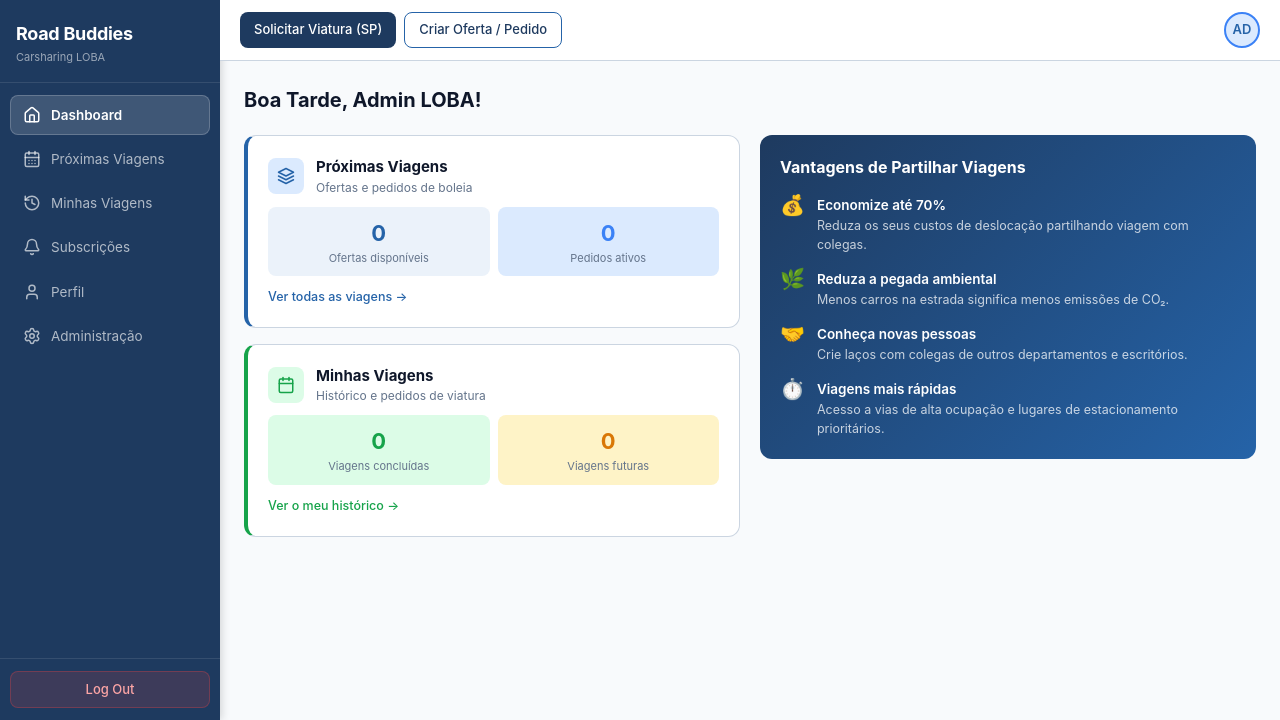
Administração › deve conseguir pesquisar utilizadores por nome
Check: the text "Road Buddies" is shown, box [16,20,133,47]
Click the button "Administração" at x=83, y=336, box [23,327,143,345]
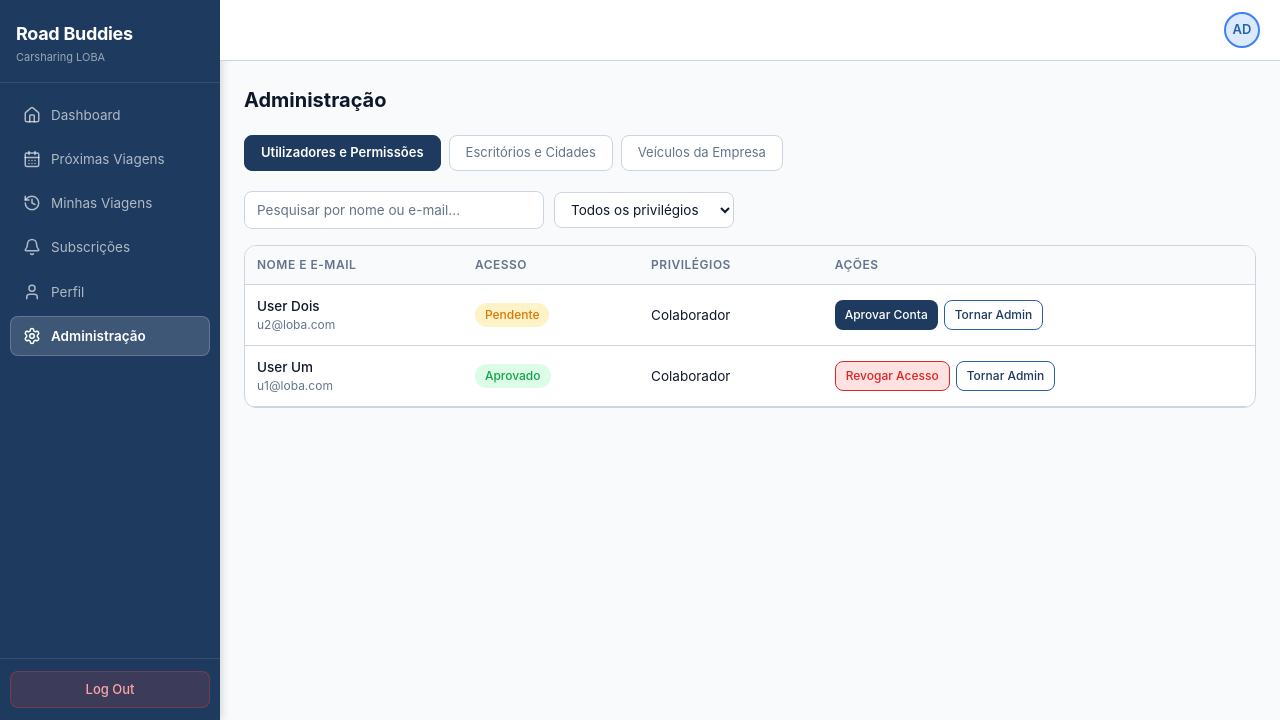
Check: the text "User Um" is shown, box [257,359,313,375]
Type "User Dois" into the field with placeholder "Pesquisar por nome ou e-mail..." at x=394, y=210, box [244,191,544,229]
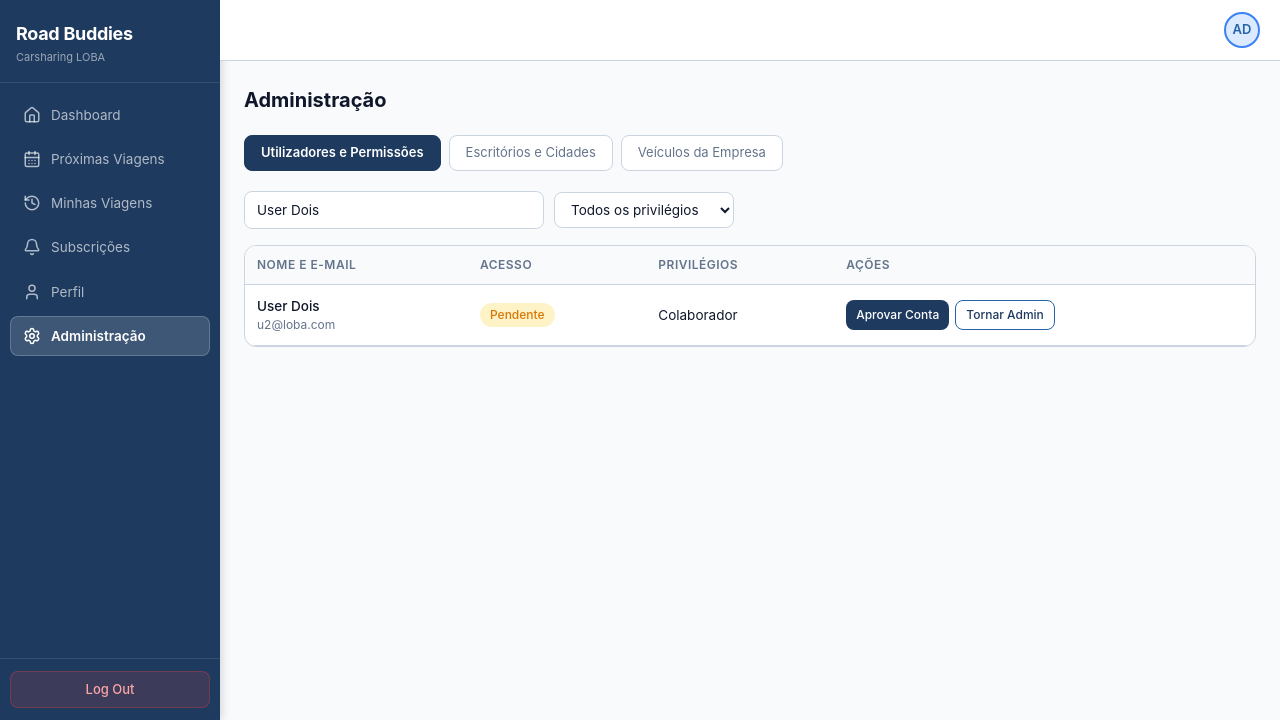
Check: the text "User Dois" is shown, box [257,298,320,314]
Check: the text "User Um" is gone
